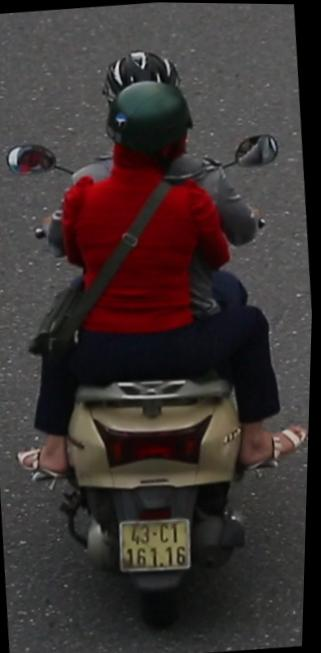LP: (112, 503, 202, 587)
helmet: (101, 77, 195, 173), (93, 39, 188, 95)
